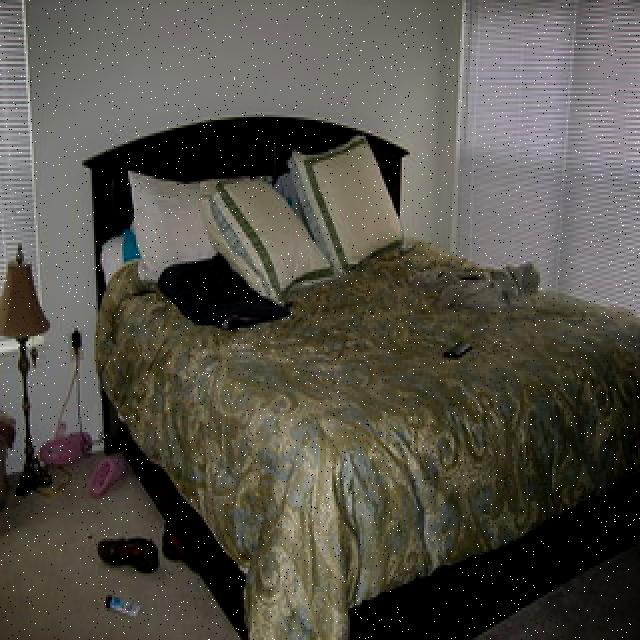bed: (81, 116, 640, 637)
